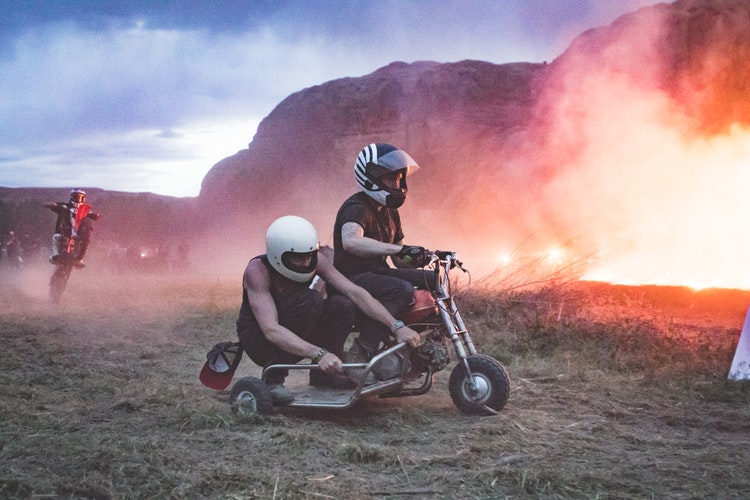helmet: (349, 141, 418, 199), (274, 212, 321, 279)
